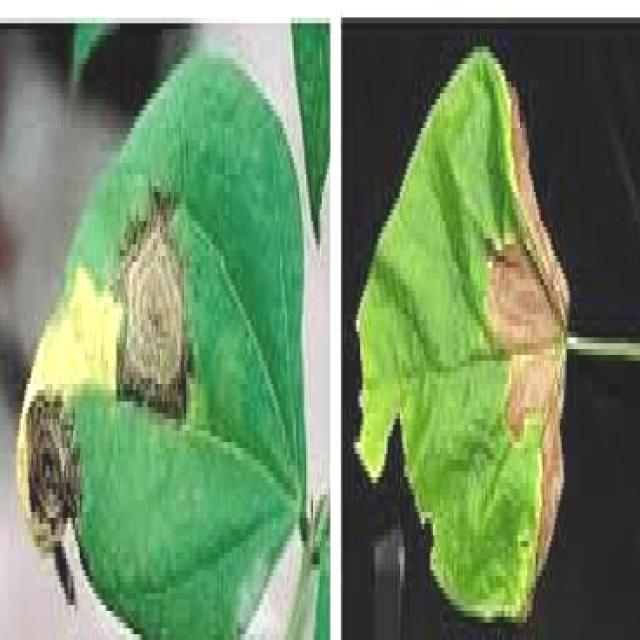leaf: (15, 23, 331, 638), (353, 43, 571, 624)
